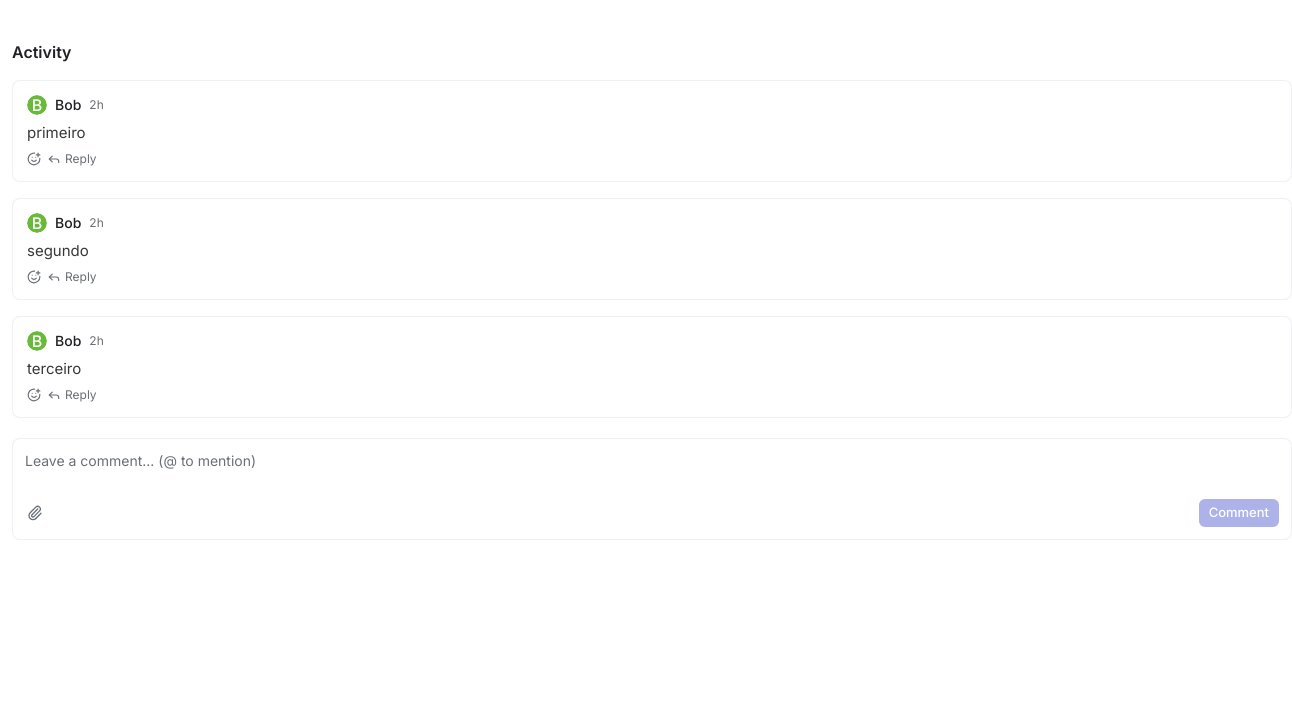
feed — render › reagir num comentário não re-renderiza os outros cards
Click the button named "Add reaction" below "primeiro" at [34, 159], box [27, 152, 41, 166]
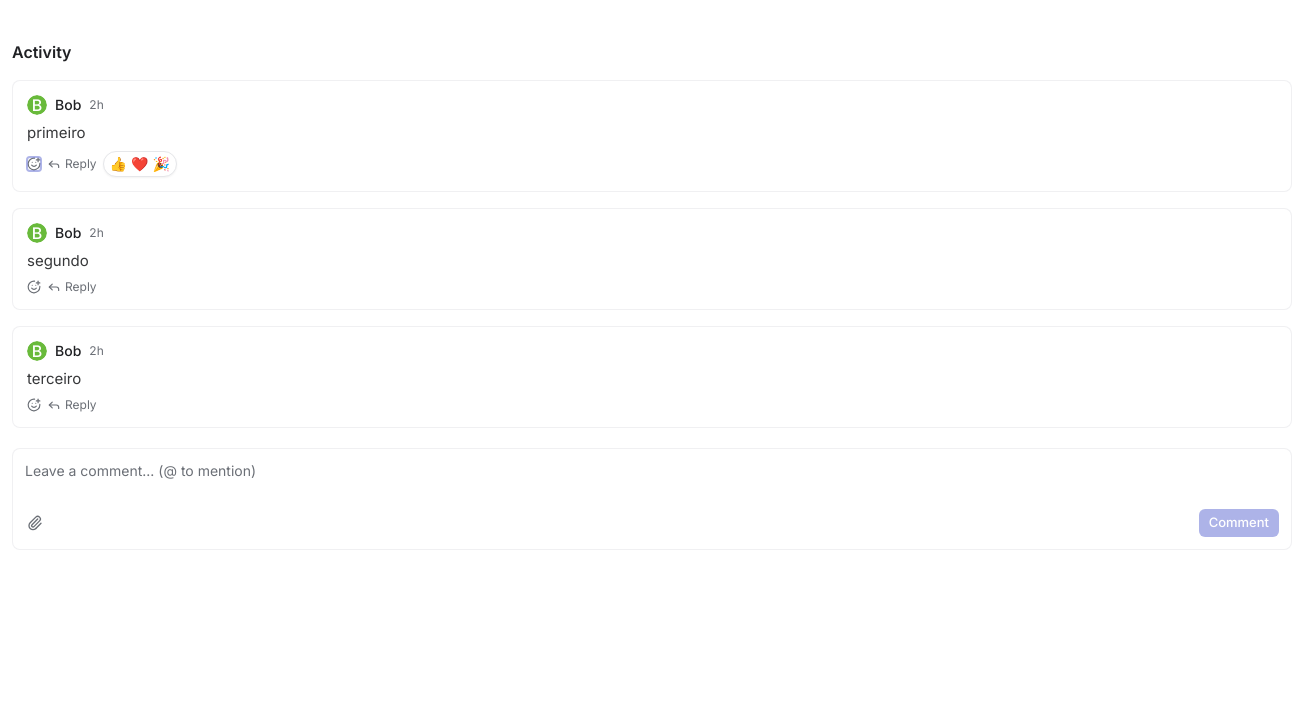
Click the button "👍" at [118, 164], box [110, 154, 127, 174]
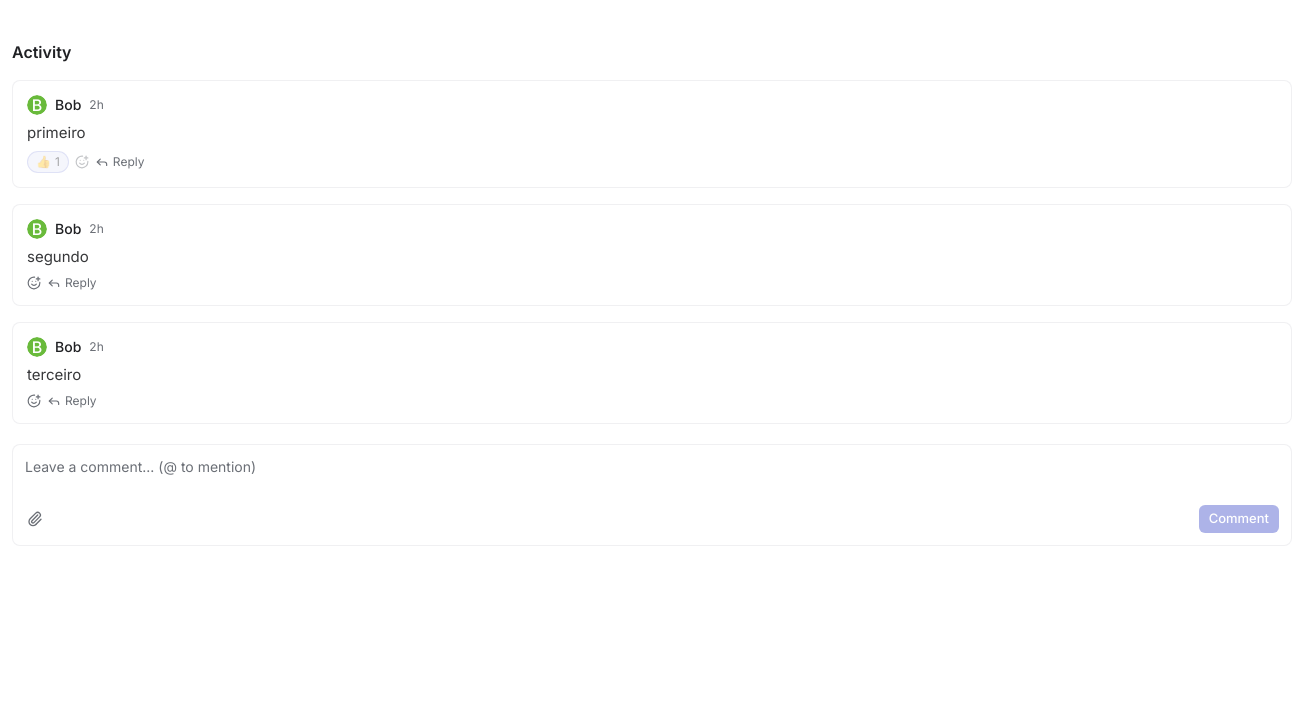
Result: the button "👍 1" is shown at [27, 151, 69, 173]
